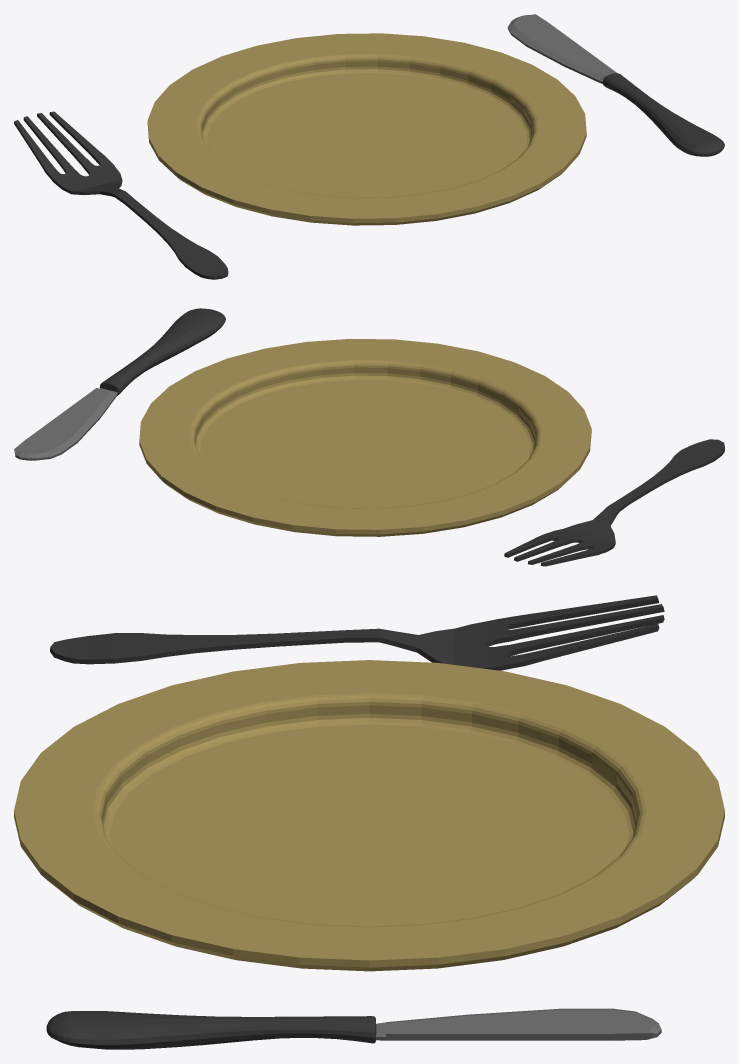
File: restaurant.obj
3 renders of one model, top to bottom at view 1: azimuth 30°, elevation 25°; view 2: azimuth 150°, elevation 25°; view 3: azimuth 270°, elevation 25°, orthographic. The views are drawn at different scales.
Bounding box in the file's own units: 8.42 × 0.4174 × 5.94.
